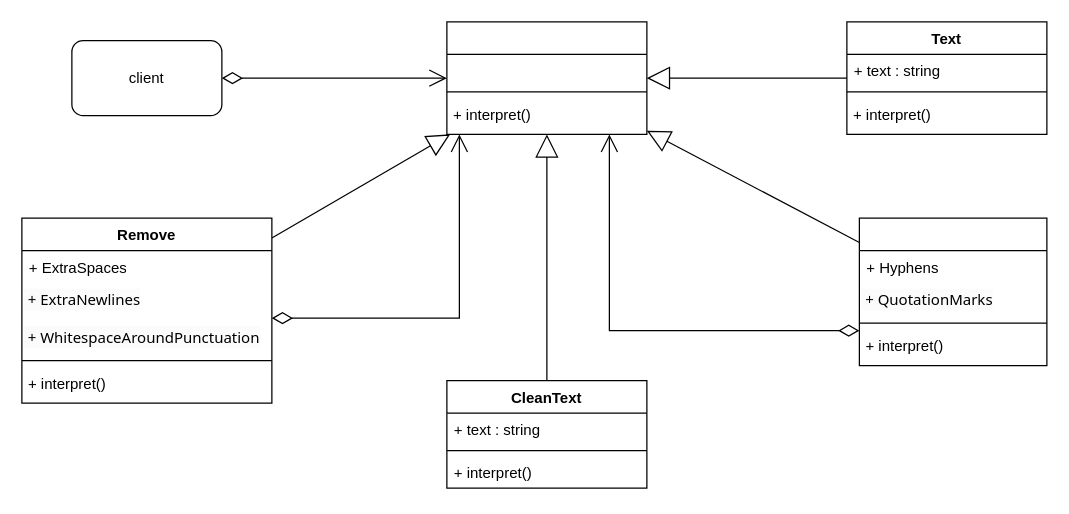
Image size: 1069x514. Some labels were removed from this diagram. Here are the shapes that lost their labels. From the top down, the box of each, then its label:
(446, 21, 647, 134): TextCLeaner
(858, 217, 1047, 366): Replace
